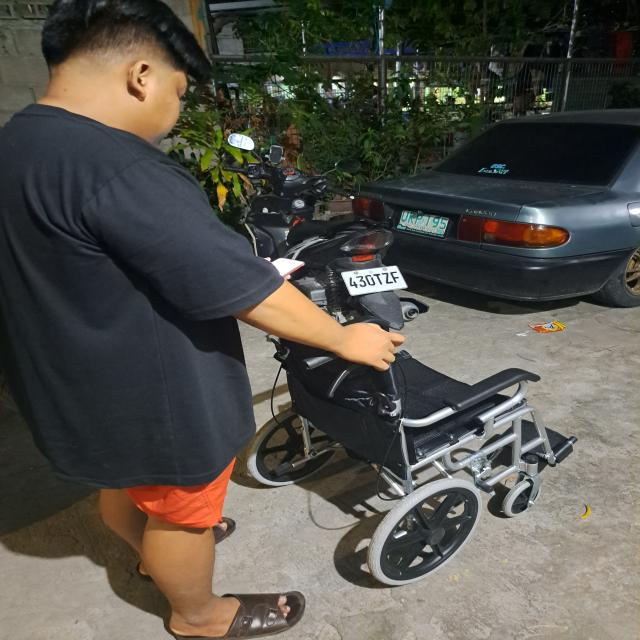wheelchairs: (252, 302, 592, 594)
